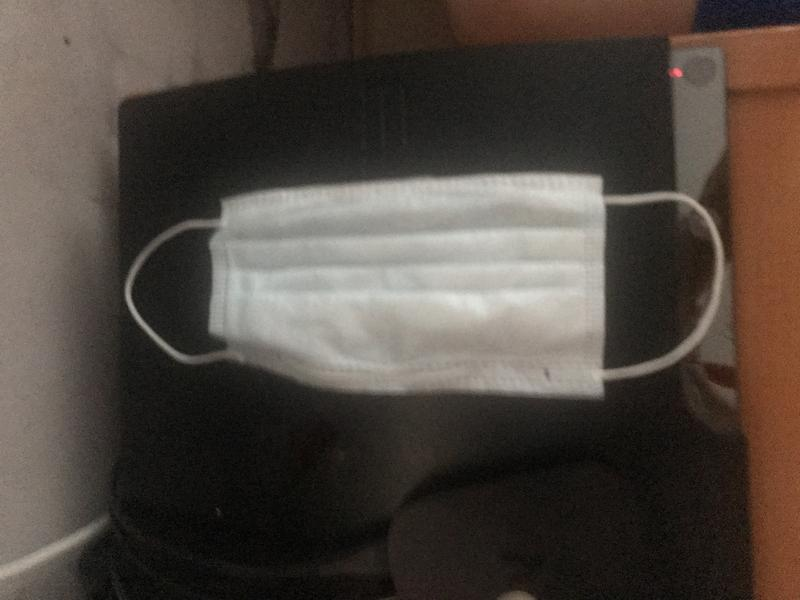medical_mask: (125, 176, 725, 400)
